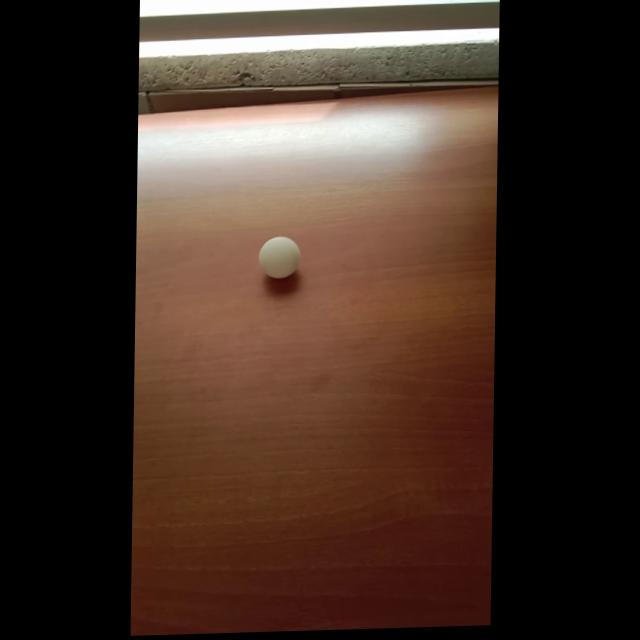white ball: (258, 235, 300, 280)
